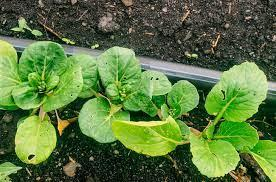Healthy-Pechay: (2, 30, 274, 179), (37, 59, 85, 114), (14, 112, 57, 165), (62, 156, 98, 181), (111, 47, 137, 77), (10, 17, 43, 38), (249, 56, 276, 81), (1, 71, 21, 103), (0, 161, 23, 181), (72, 54, 95, 73), (16, 114, 32, 128), (113, 109, 129, 123), (115, 52, 120, 86), (180, 8, 191, 23), (38, 105, 47, 121), (182, 30, 192, 43), (61, 37, 75, 45), (185, 52, 198, 59), (121, 0, 133, 7), (37, 83, 46, 92), (90, 43, 100, 50), (227, 2, 232, 16), (161, 6, 168, 13), (244, 15, 252, 21), (210, 46, 215, 55), (144, 32, 155, 36), (88, 156, 95, 162), (113, 149, 120, 155), (223, 23, 230, 29), (38, 0, 44, 7), (70, 0, 77, 6), (128, 27, 133, 35), (120, 92, 126, 98), (81, 21, 87, 27), (109, 34, 115, 40), (2, 18, 7, 25), (252, 91, 257, 96), (150, 6, 155, 11), (273, 34, 276, 42), (155, 77, 159, 80), (150, 77, 153, 80)
